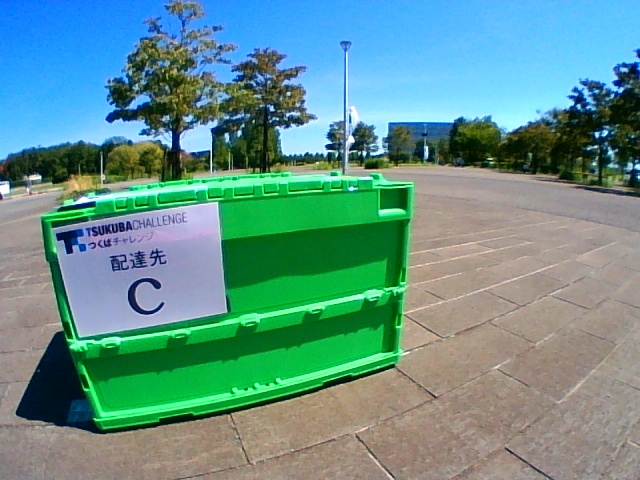green_box: (41, 171, 413, 431)
tag_c: (101, 235, 190, 320)
